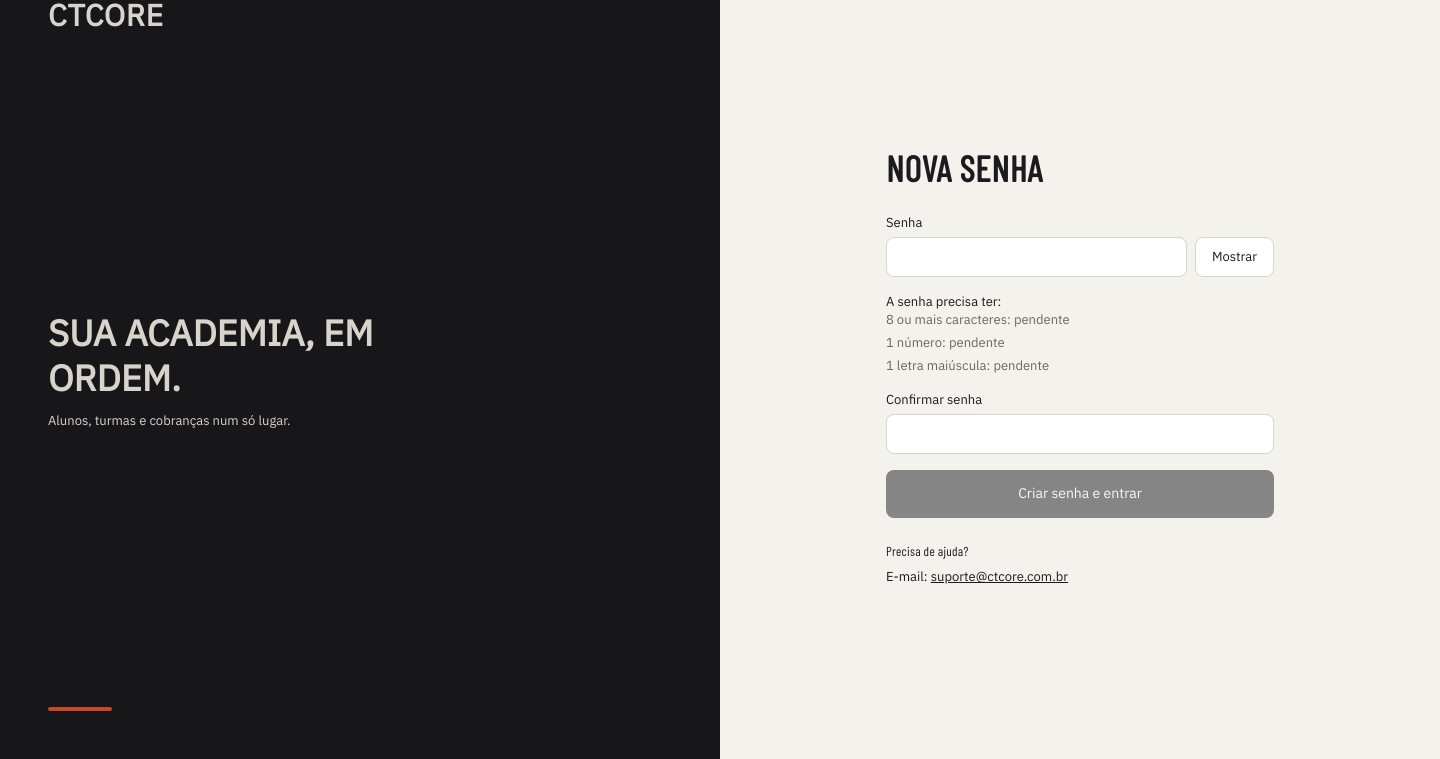
ResetPasswordPage › CA9: aceita, guarda a sessão e vai a / sem o código na URL
Type "Senha123" into the password field labelled "Senha" at (1036, 257), box x1=886 y1=237 x2=1187 y2=277
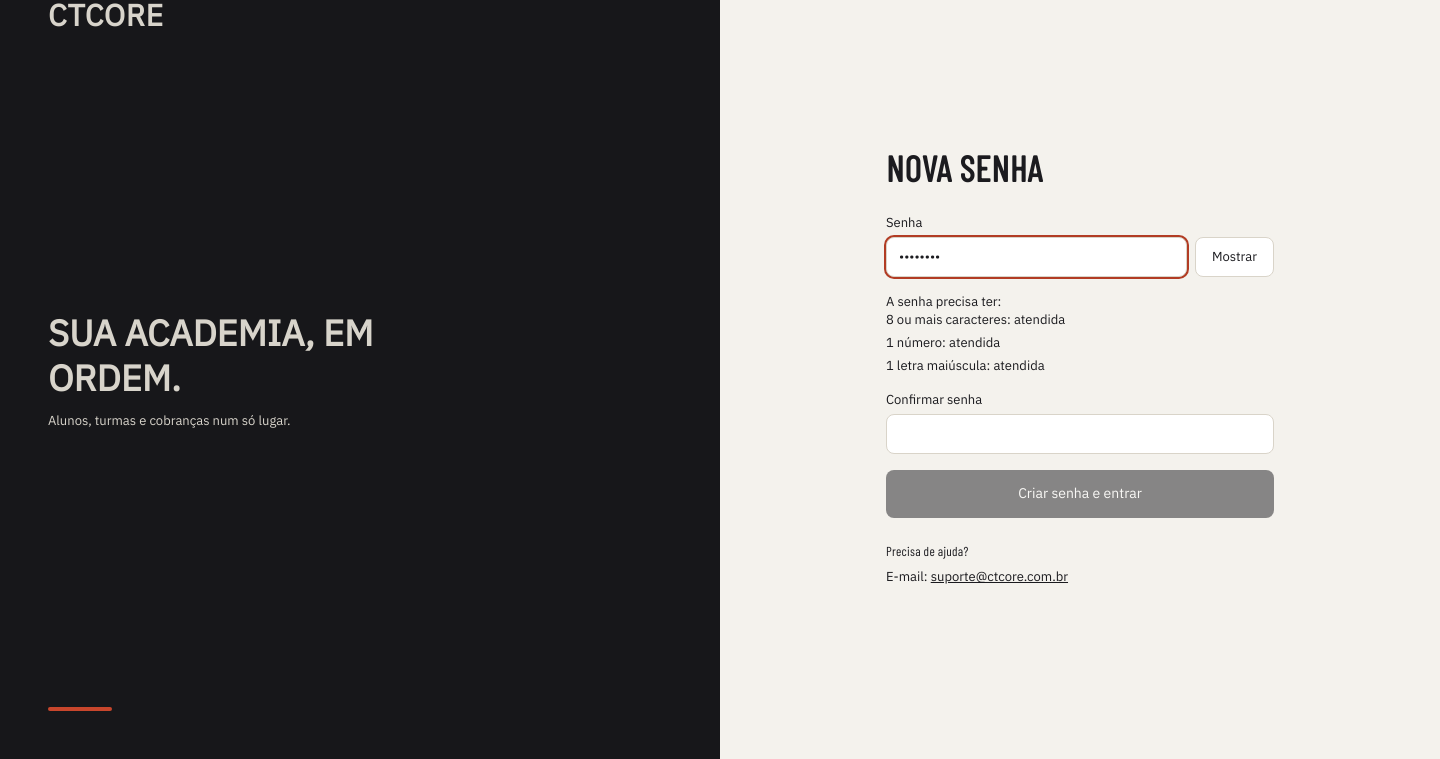
Type "Senha123" into the password field labelled "Confirmar senha" at (1080, 434), box x1=886 y1=414 x2=1274 y2=454
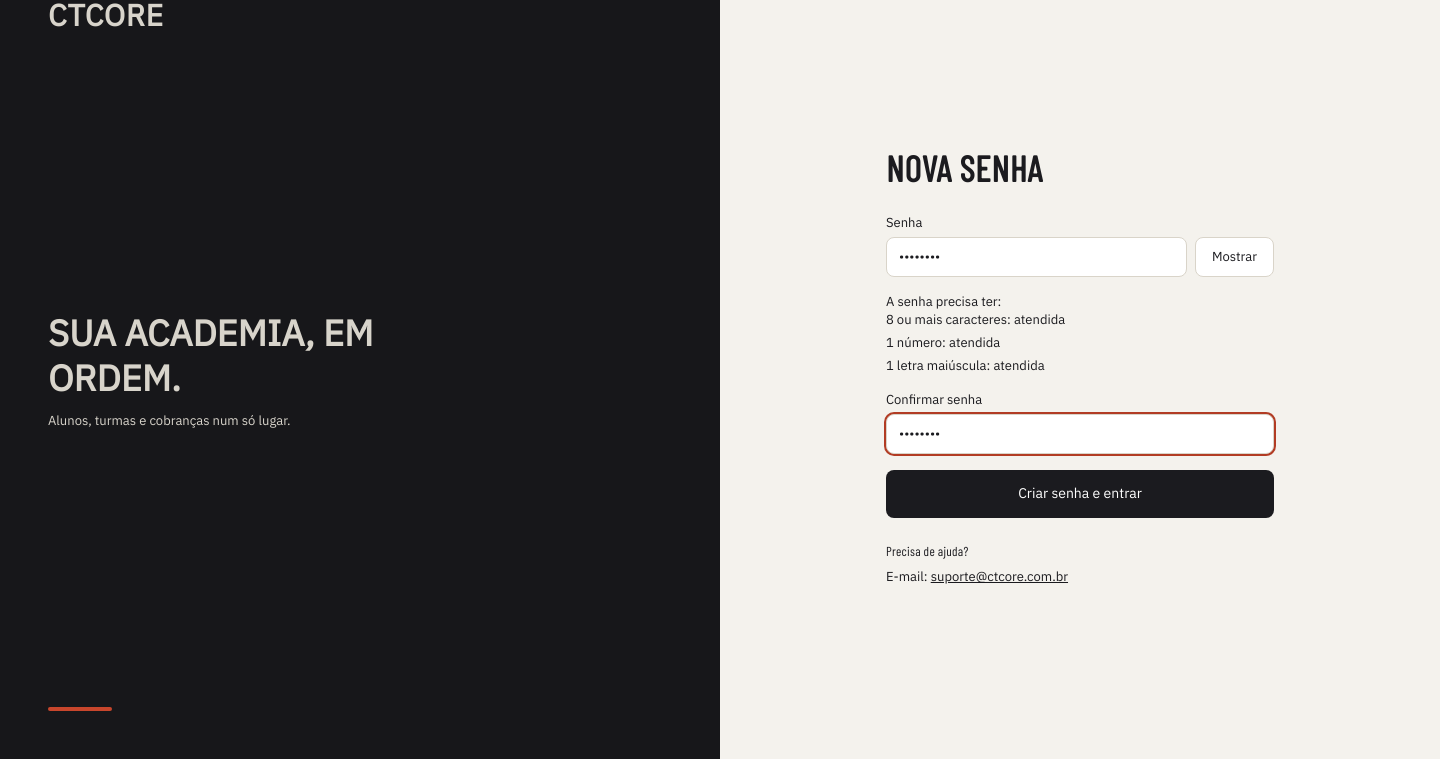
Click the button "Criar senha e entrar" at (1080, 494), box x1=886 y1=470 x2=1274 y2=518
(page scrolled)
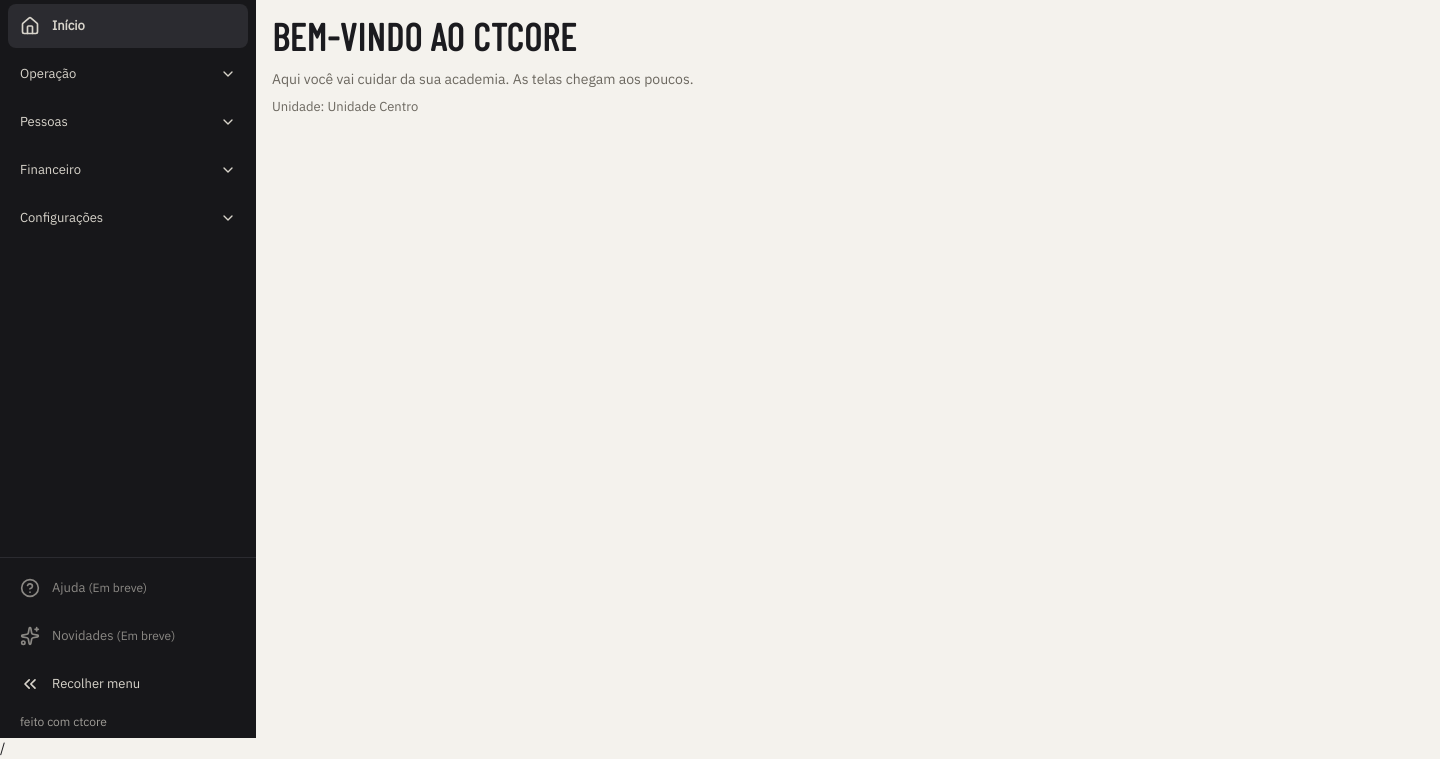
Check: the heading "Bem-vindo ao ctcore" is shown, box x1=272 y1=13 x2=577 y2=60
Check: the text with test id "where" reads "/", box x1=0 y1=739 x2=5 y2=757
